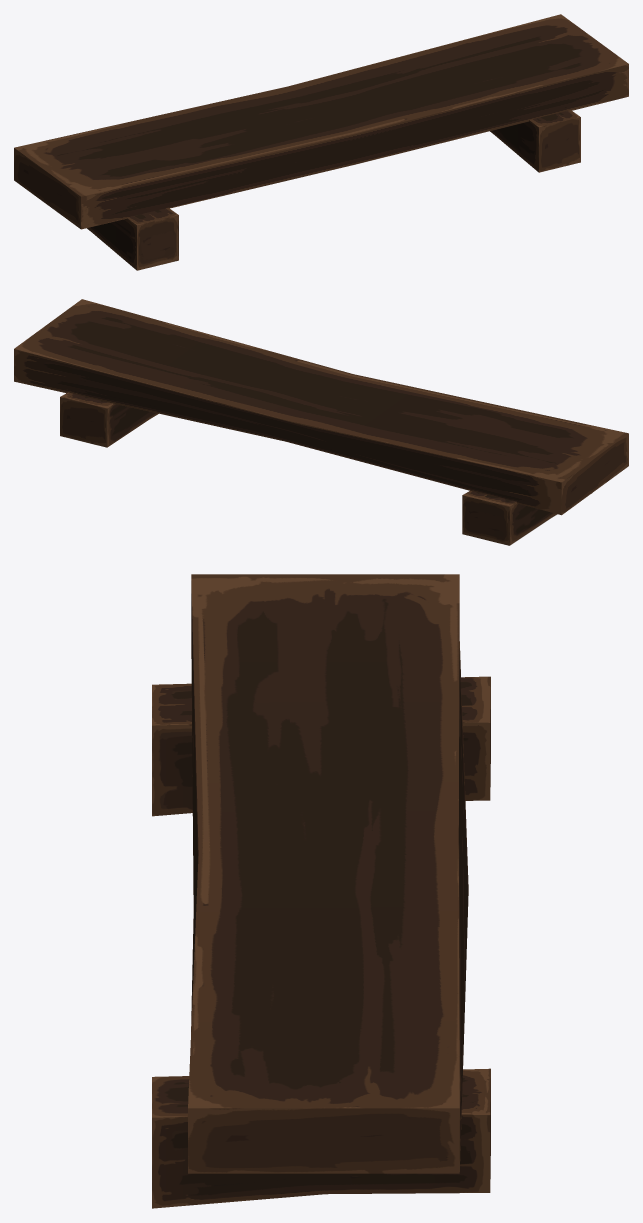
The model's file is SM_PROP_wallshelf_dungeon_03.fbx.
3 views of the same model, one above another, from view 1: azimuth 30°, elevation 25°; view 2: azimuth 150°, elevation 25°; view 3: azimuth 270°, elevation 25° (orthographic). The views are drawn at different scales.
Parts seen in each view (by area): view 1: SM_PROP_wallshelf_dungeon_03; view 2: SM_PROP_wallshelf_dungeon_03; view 3: SM_PROP_wallshelf_dungeon_03.
Boxes of the visible parts, left/top/right/bottom form: SM_PROP_wallshelf_dungeon_03: left=14, top=14, right=628, bottom=270; SM_PROP_wallshelf_dungeon_03: left=14, top=299, right=628, bottom=545; SM_PROP_wallshelf_dungeon_03: left=152, top=574, right=490, bottom=1208.
Bounding box in the file's own units: 152 × 20.78 × 40.89.
